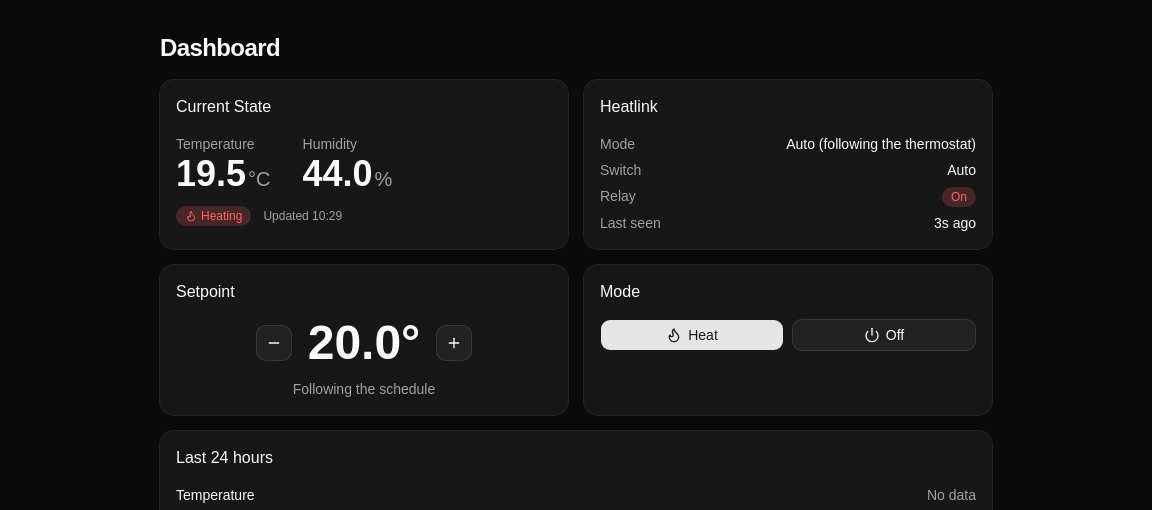
Test: Dashboard › reports a failed write and reverts
Expected: the text "19.5" is shown, x1=176 y1=153 x2=246 y2=194
Click the button "Off": (884, 335) x1=792 y1=319 x2=976 y2=351
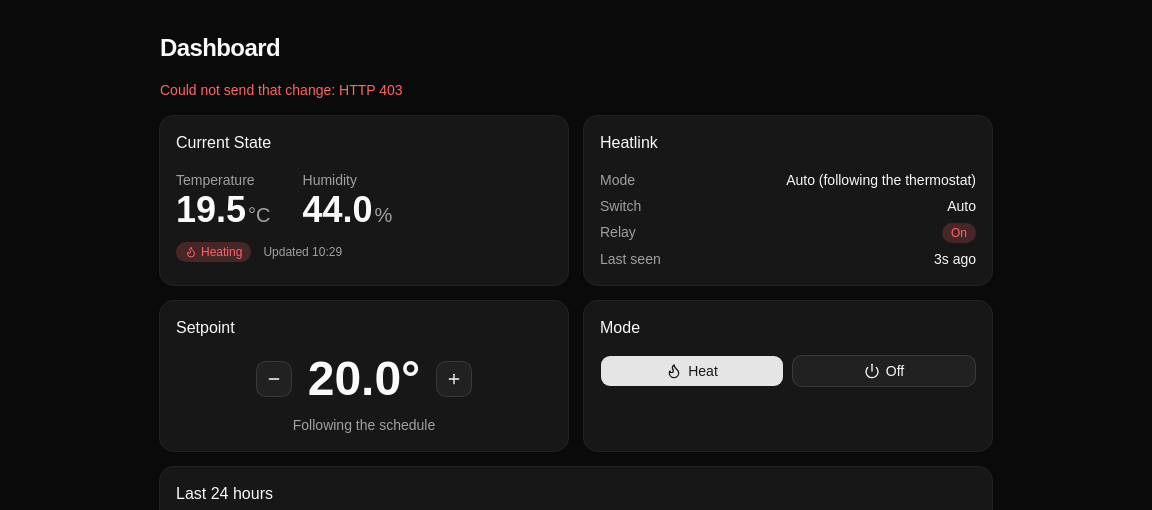
Now the text "Could not send that change: HTTP 403" is shown, box x1=160 y1=82 x2=403 y2=98
